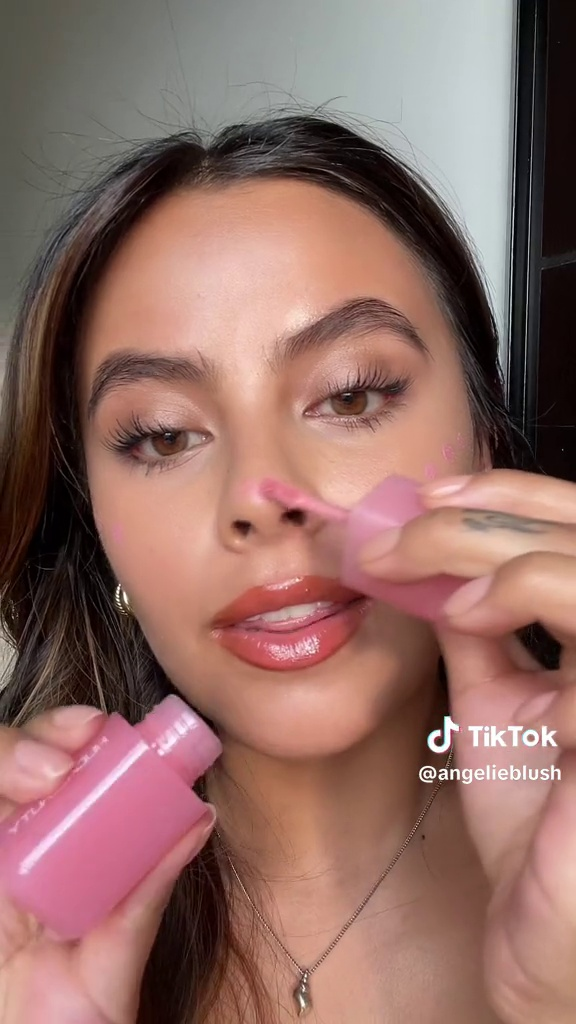train' :'yolo_data/train/images',: (4, 688, 236, 942), (243, 466, 502, 633)
